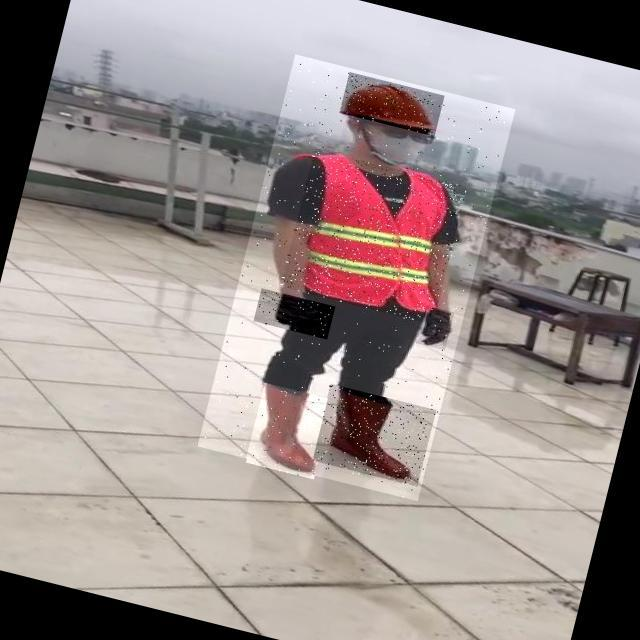Gloves: (254, 288, 335, 339), (417, 306, 456, 351)
Helmet: (341, 72, 446, 137)
Human: (198, 54, 517, 501)
Safety Boot: (312, 384, 436, 487), (246, 384, 334, 480)
Safety Vest: (281, 149, 467, 325)
